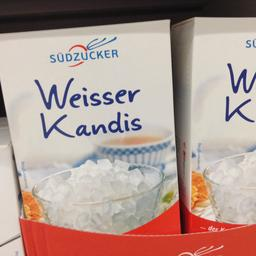sugar: (0, 16, 181, 234), (172, 15, 254, 232)
